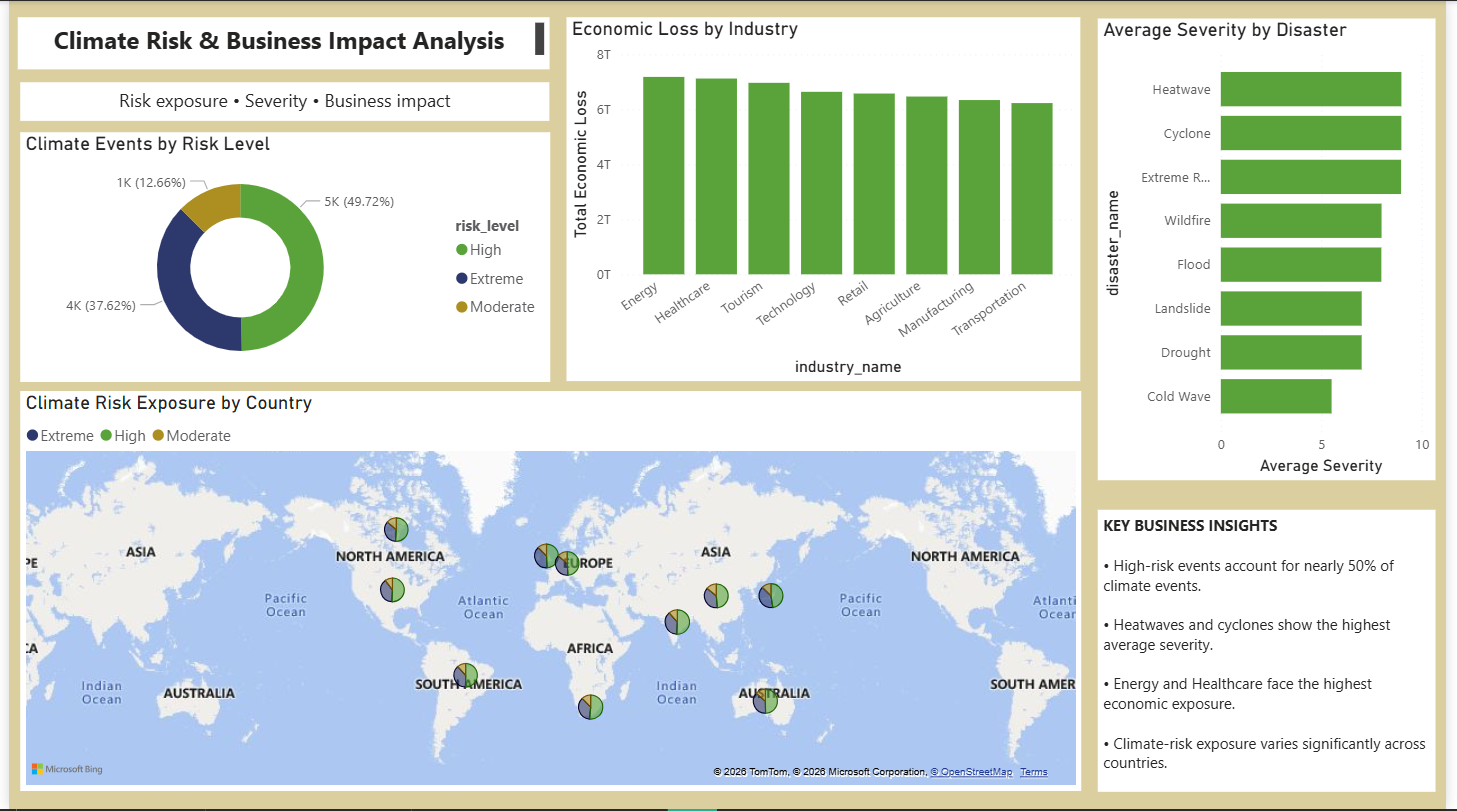

What the dashboard file says about the page in this screenshot:
{"tool":"powerbi","page":{"name":"Risk & Business Impact ","canvas":[1280,720],"ordinal":1},"visuals":[{"type":"donutChart","title":"Climate Events by Risk Level","fields":{"Category":["dim_risk_level.risk_level"],"Y":["fact_climate_events_messy.Total Climate Events"]},"box":[9.8,116.6,472.4,222.1],"z":0},{"type":"clusteredColumnChart","title":"Economic Loss by Industry","fields":{"Category":["dim_industry.industry_name"],"Y":["fact_climate_events_messy.Total Economic Loss"]},"box":[496.9,14.7,457.7,323.9],"z":1000},{"type":"map","title":"Climate Risk Exposure by Country","fields":{"Category":["dim_country.country_name"],"Size":["fact_climate_events_messy.Total Climate Events"],"Series":["dim_risk_level.risk_level"]},"box":[10,347.5,945,356.2],"z":2000},{"type":"clusteredBarChart","title":"Average Severity by Disaster","fields":{"Category":["dim_disaster.disaster_name"],"Y":["fact_climate_events_messy.Average Severity"]},"box":[969.3,16,300.6,411],"z":3000},{"type":"textbox","box":[7.4,14.7,473.6,46.6],"z":4000},{"type":"textbox","box":[9.8,72.4,471.2,34.4],"z":5000},{"type":"textbox","box":[969.3,452.8,300.6,251.5],"z":6000}]}

Visuals, with their boxes in screenshot pixels (x1, y1, x2, y2), scaled from the page's 1280x720 canvas onto the 1457x811 screenshot:
"Climate Events by Risk Level" donutChart: (left=11, top=131, right=549, bottom=382)
"Economic Loss by Industry" clusteredColumnChart: (left=566, top=17, right=1087, bottom=381)
"Climate Risk Exposure by Country" map: (left=11, top=391, right=1087, bottom=793)
"Average Severity by Disaster" clusteredBarChart: (left=1103, top=18, right=1446, bottom=481)
textbox: (left=8, top=17, right=548, bottom=69)
textbox: (left=11, top=82, right=548, bottom=120)
textbox: (left=1103, top=510, right=1446, bottom=793)
